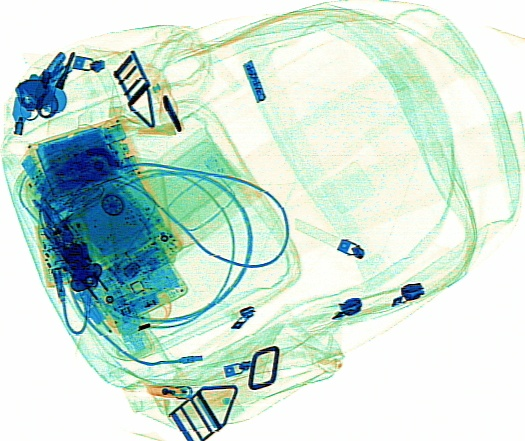lighter: (144, 382, 192, 400)
powerbank: (20, 107, 151, 210)
